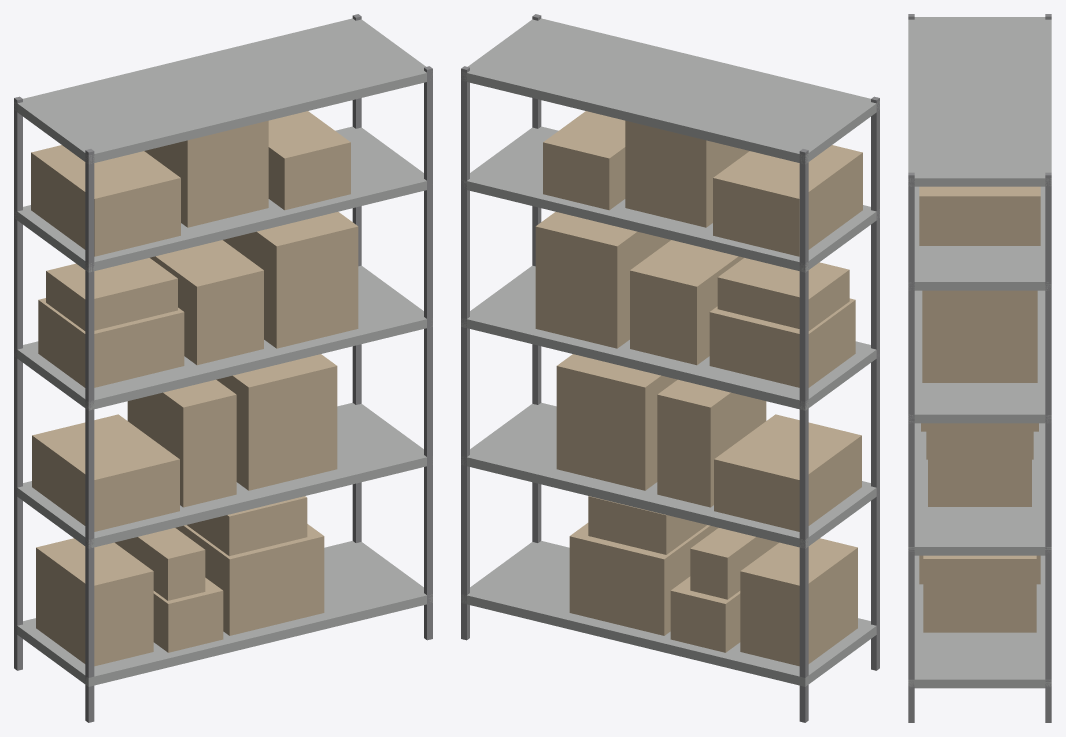
Rendered from stockrack_a.glb.
The picture shows the model from 3 angles, left to right: view 1: azimuth 30°, elevation 25°; view 2: azimuth 150°, elevation 25°; view 3: azimuth 270°, elevation 25°; orthographic projection. The views are drawn at different scales.
Visible parts, largest first — view 1: NC_stockrack_a; view 2: NC_stockrack_a; view 3: NC_stockrack_a.
Boxes of the visible parts, x1,y1,x2,y2 form: NC_stockrack_a: (14,14,432,722); NC_stockrack_a: (461,14,879,722); NC_stockrack_a: (908,14,1051,722).
Bounding box in the file's own units: 1.2 × 1.9 × 0.45.
